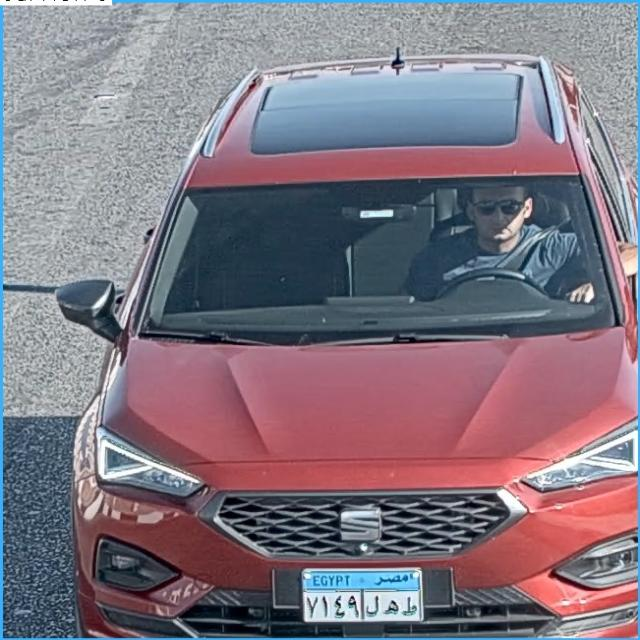windshield: (145, 187, 610, 332)
